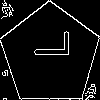L: (25, 30, 70, 59)
